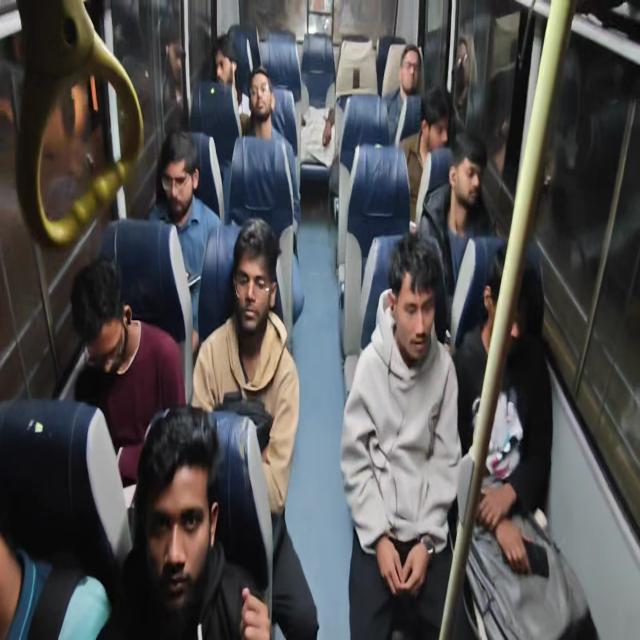person: (191, 217, 319, 638), (340, 230, 462, 638), (96, 404, 272, 639), (452, 246, 554, 576), (70, 255, 186, 487), (417, 130, 499, 344), (147, 129, 222, 346), (0, 533, 111, 638), (242, 66, 301, 232), (398, 86, 452, 225), (382, 44, 422, 144), (298, 82, 335, 166), (450, 34, 479, 134), (161, 37, 187, 131), (213, 33, 242, 113)
